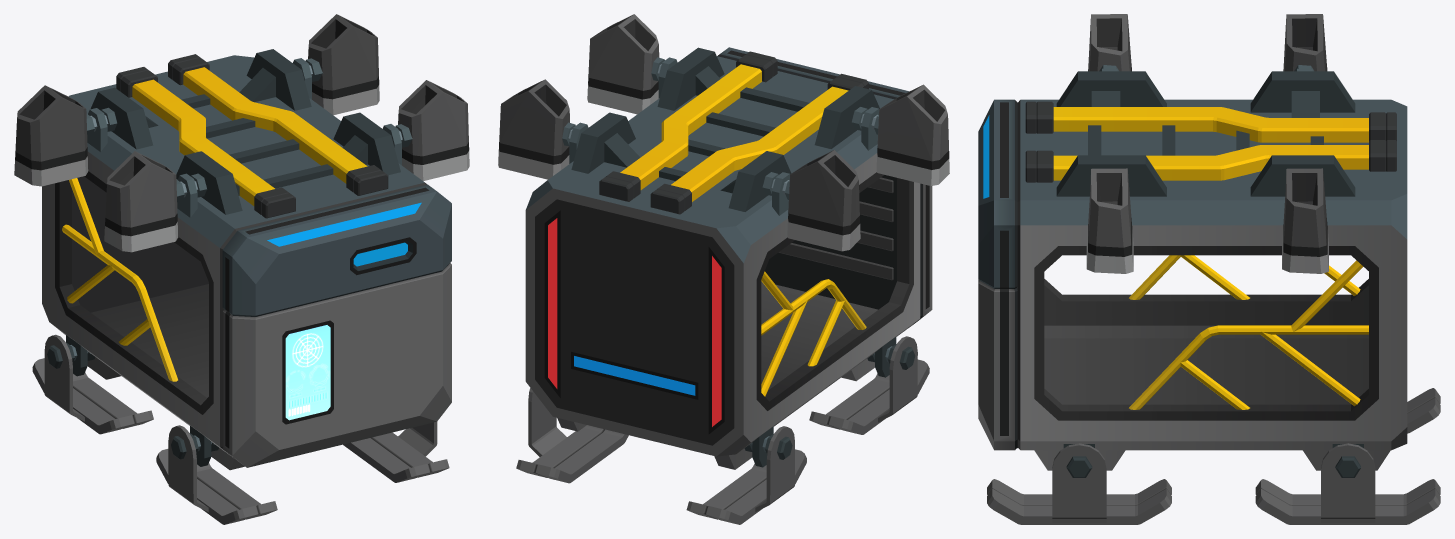
The model's file is Cargo_drone_001.glb.
The picture shows the model from 3 angles, left to right: view 1: azimuth 30°, elevation 25°; view 2: azimuth 150°, elevation 25°; view 3: azimuth 270°, elevation 25°; orthographic projection. The views are drawn at different scales.
Parts seen in each view (by area): view 1: Cargo_drone_001; view 2: Cargo_drone_001; view 3: Cargo_drone_001.
Part boxes in pixels (box(x1,y1,x2,y2)): Cargo_drone_001: box(14, 14, 469, 524); Cargo_drone_001: box(498, 14, 949, 524); Cargo_drone_001: box(978, 14, 1440, 524).
Size of the model in its own units: 1.62 by 1.51 by 1.68.
4 materials, 3 textured.
